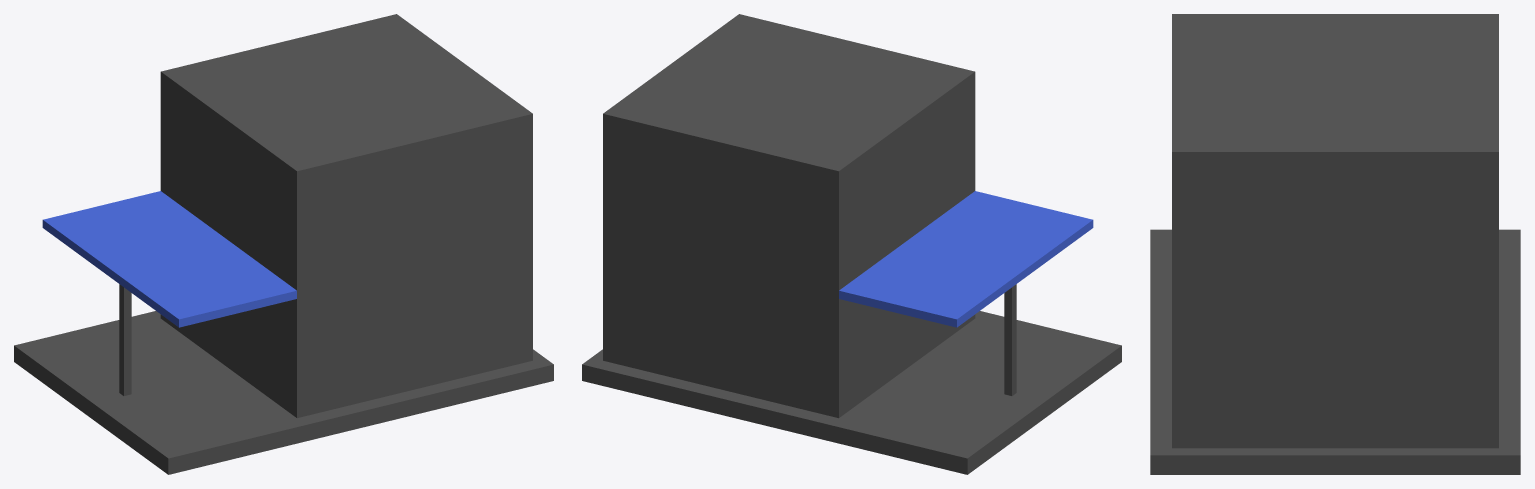
Rendered from house.gltf.
3 renders of one model, left to right at view 1: azimuth 30°, elevation 25°; view 2: azimuth 150°, elevation 25°; view 3: azimuth 270°, elevation 25°, orthographic. The views are drawn at different scales.
Visible parts, largest first — view 1: Cube, Cube.002, Cube.001, Cube.003; view 2: Cube, Cube.002, Cube.001, Cube.003; view 3: Cube, Cube.002.
Boxes of the visible parts, x1,y1,x2,y2 form: Cube: (160, 14, 532, 418); Cube.002: (14, 311, 553, 474); Cube.001: (42, 191, 296, 327); Cube.003: (119, 284, 131, 395); Cube: (603, 14, 975, 418); Cube.002: (582, 311, 1121, 474); Cube.001: (839, 191, 1093, 327); Cube.003: (1004, 284, 1016, 395); Cube: (1172, 14, 1498, 448); Cube.002: (1150, 229, 1520, 474).
Bounding box in the file's own units: 4.9 × 3.2 × 3.4.
